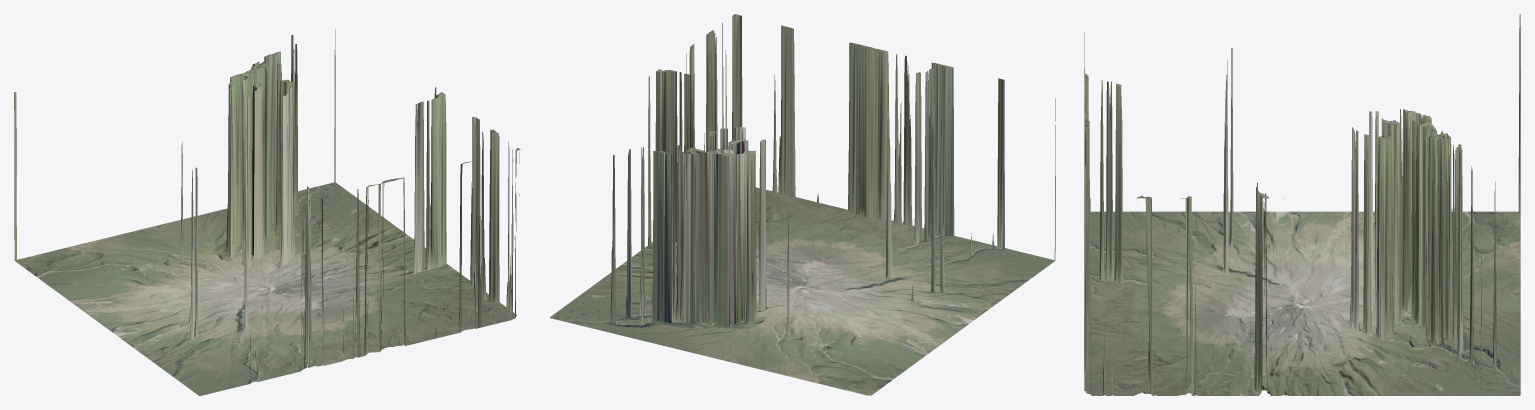
File: dsm_af03b9d525_mesh.glb
3 renders of one model, left to right at view 1: azimuth 30°, elevation 25°; view 2: azimuth 150°, elevation 25°; view 3: azimuth 270°, elevation 25°, orthographic. The views are drawn at different scales.
Parts seen in each view (by area): view 1: geometry_0; view 2: geometry_0; view 3: geometry_0.
Boxes of the visible parts, <box> form: geometry_0: <box>14,29,520,395</box>; geometry_0: <box>550,14,1055,395</box>; geometry_0: <box>1084,14,1520,395</box>.
Bounding box in the file's own units: 2 × 1 × 2.
